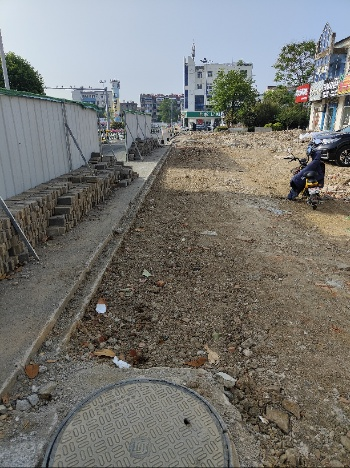good: (26, 367, 259, 468)
